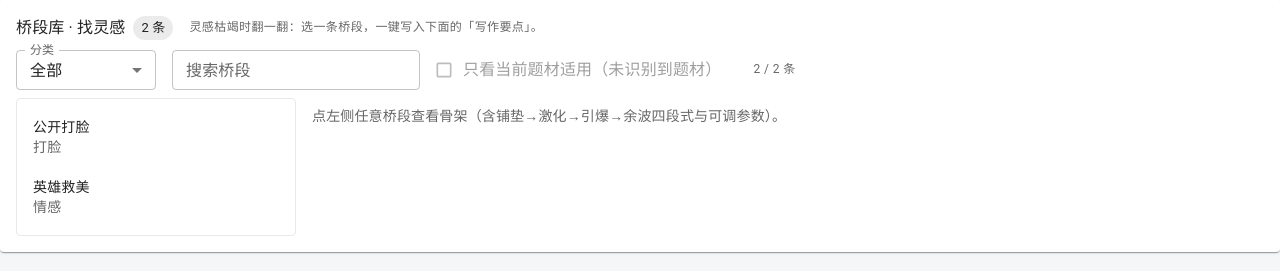
Scenario: TropePanel › 关键词搜索：按桥段名过滤
Expected: the text "公开打脸" is shown, [33,119,90,135]
Type "英雄救美" into the field labelled "搜索桥段" at (296, 70), box [172,50,420,90]
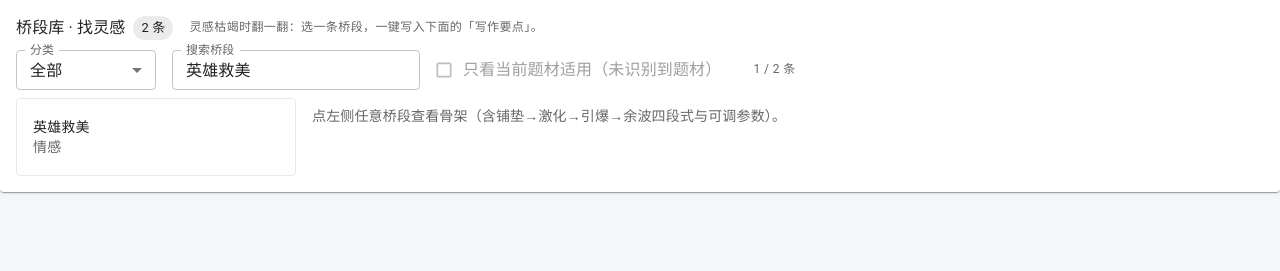
Expected: the text "英雄救美" is shown, [33,119,90,135]
Result: the button "公开打脸" is gone
